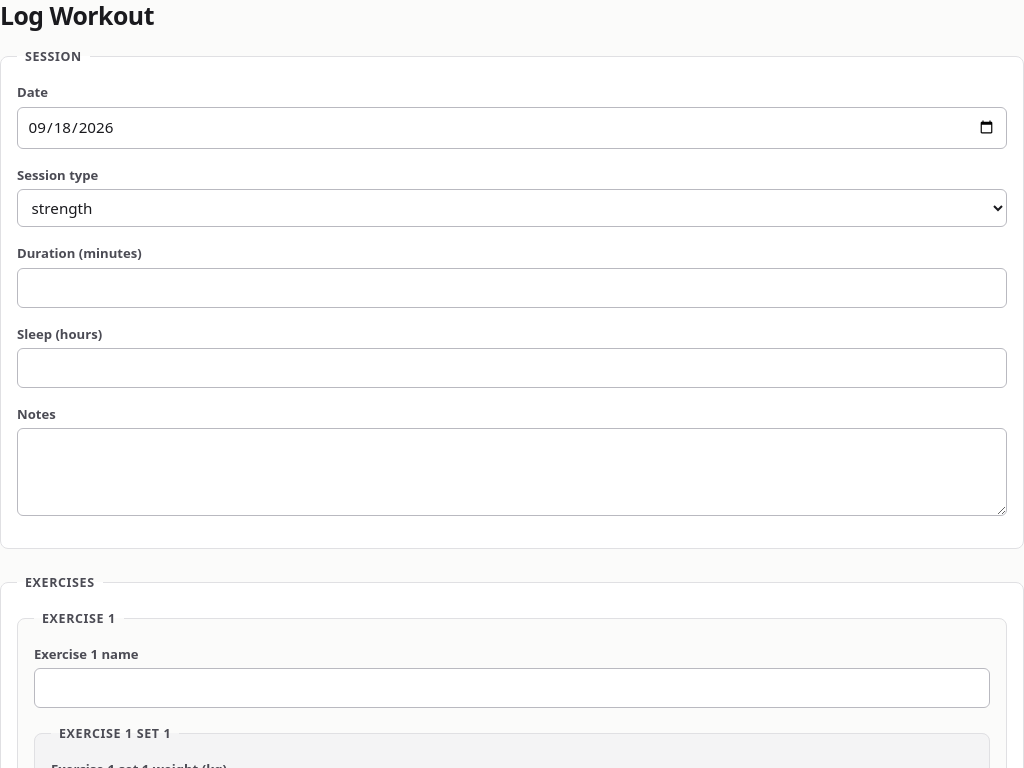
Test: WorkoutEditorScreen › rejects RPE outside 1-10
This screenshot has width=1024, height=768.
Type "Squat" into the field labelled "Exercise 1 name" at (512, 688), box [34,668,990,708]
(page scrolled)
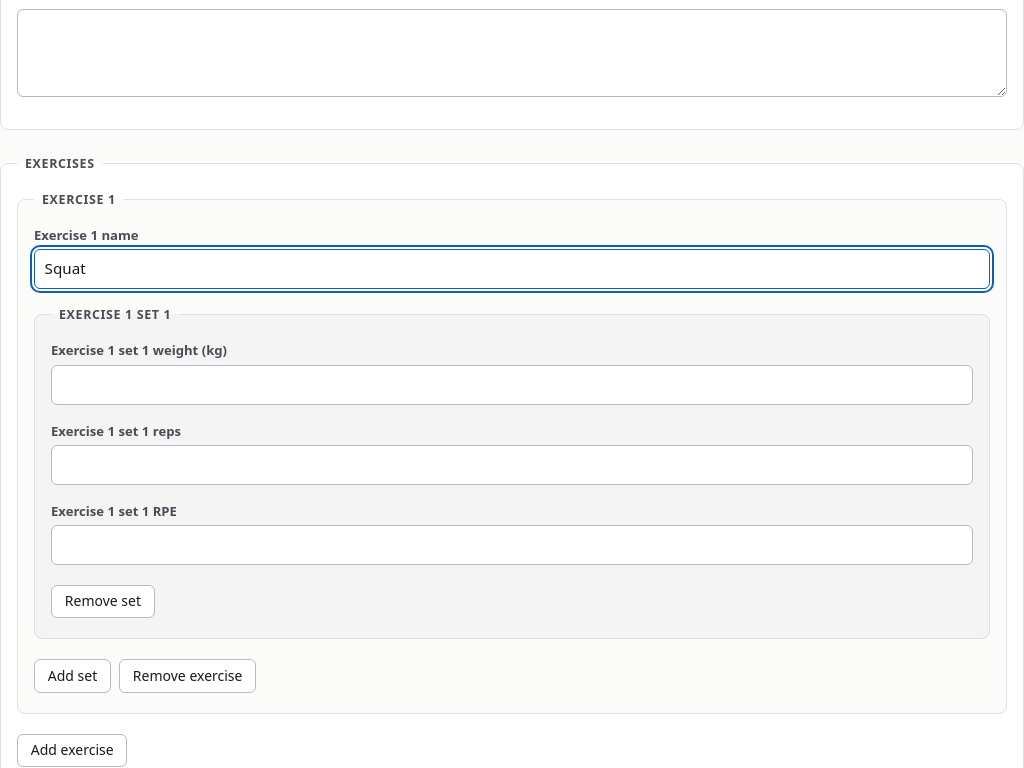
Type "100" into the number field labelled "Exercise 1 set 1 weight (kg)" at (512, 385), box [51,365,973,405]
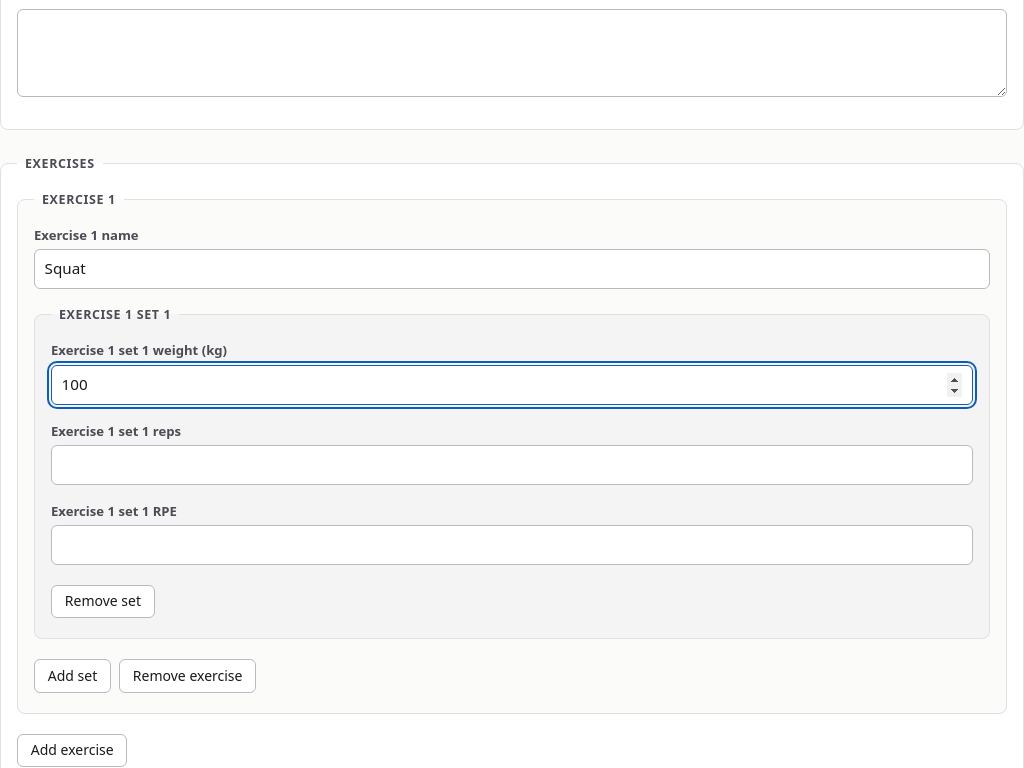
Type "5" into the number field labelled "Exercise 1 set 1 reps" at (512, 465), box [51,445,973,485]
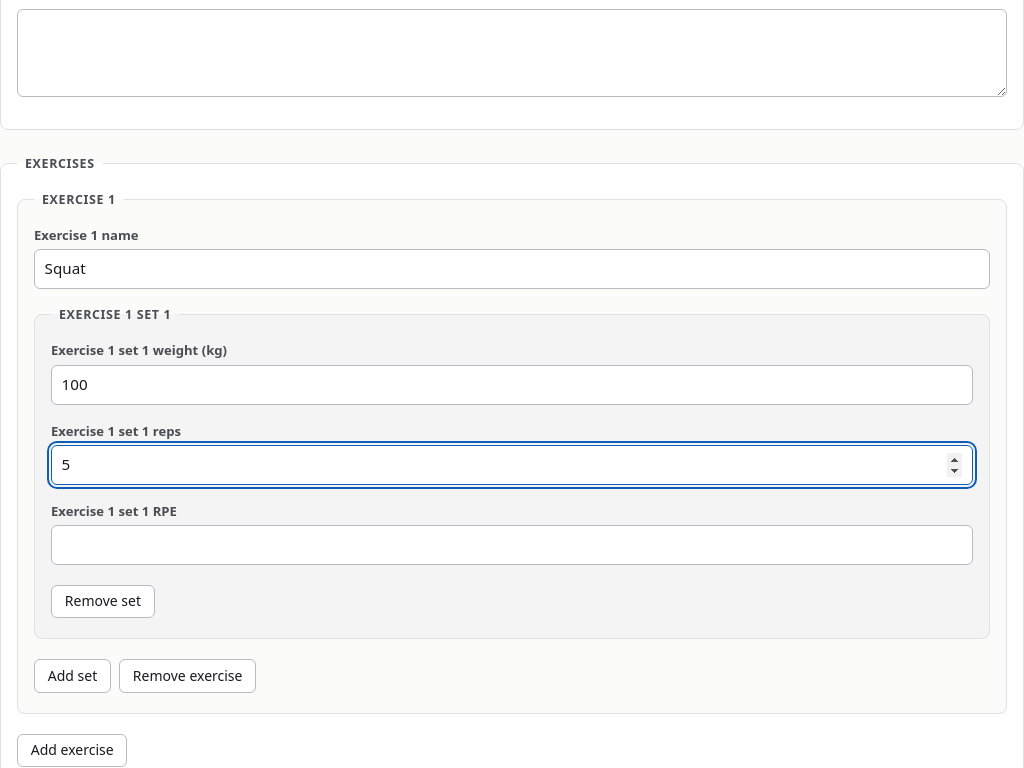
Type "8" into the number field labelled "Exercise 1 set 1 RPE" at (512, 545), box [51,525,973,565]
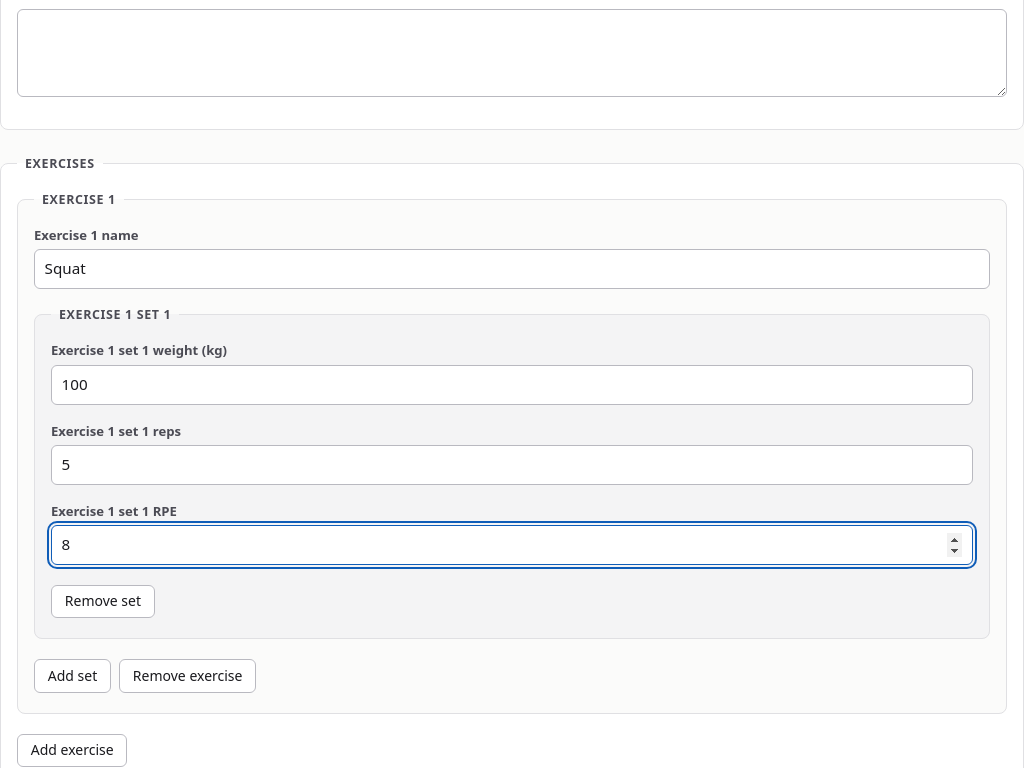
Replace the text in the number field labelled "Exercise 1 set 1 RPE" with "11" at (512, 545), box [51,525,973,565]
(page scrolled)
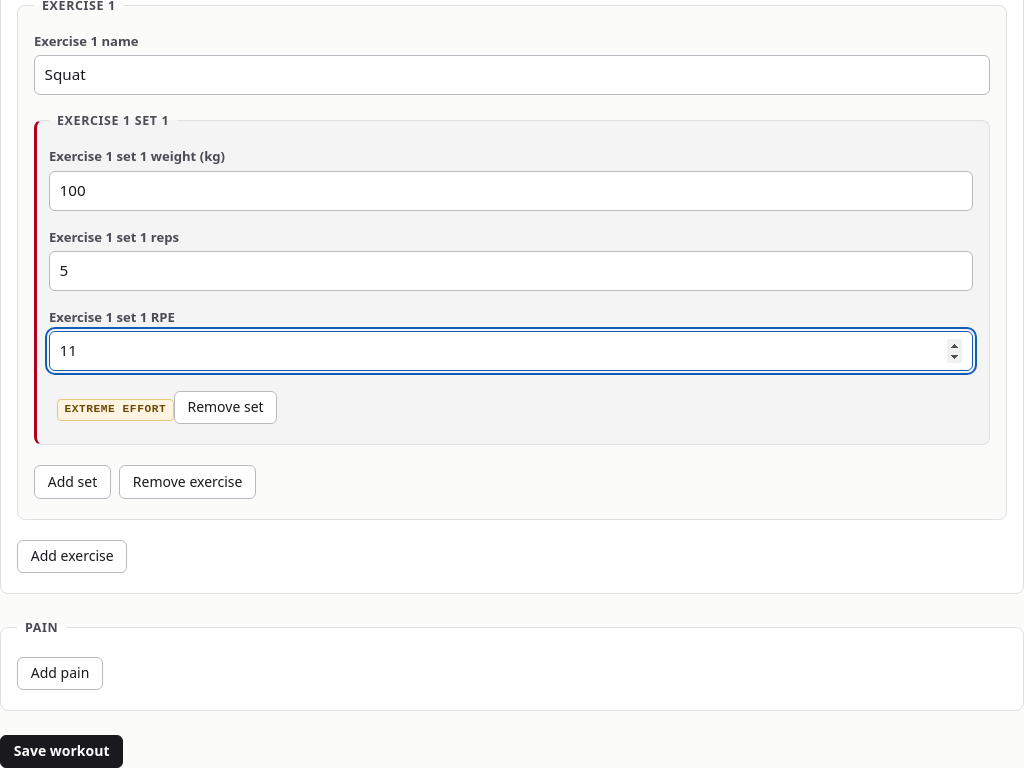
Click the button "Save workout" at (62, 752), box [0,735,123,767]
(page scrolled)
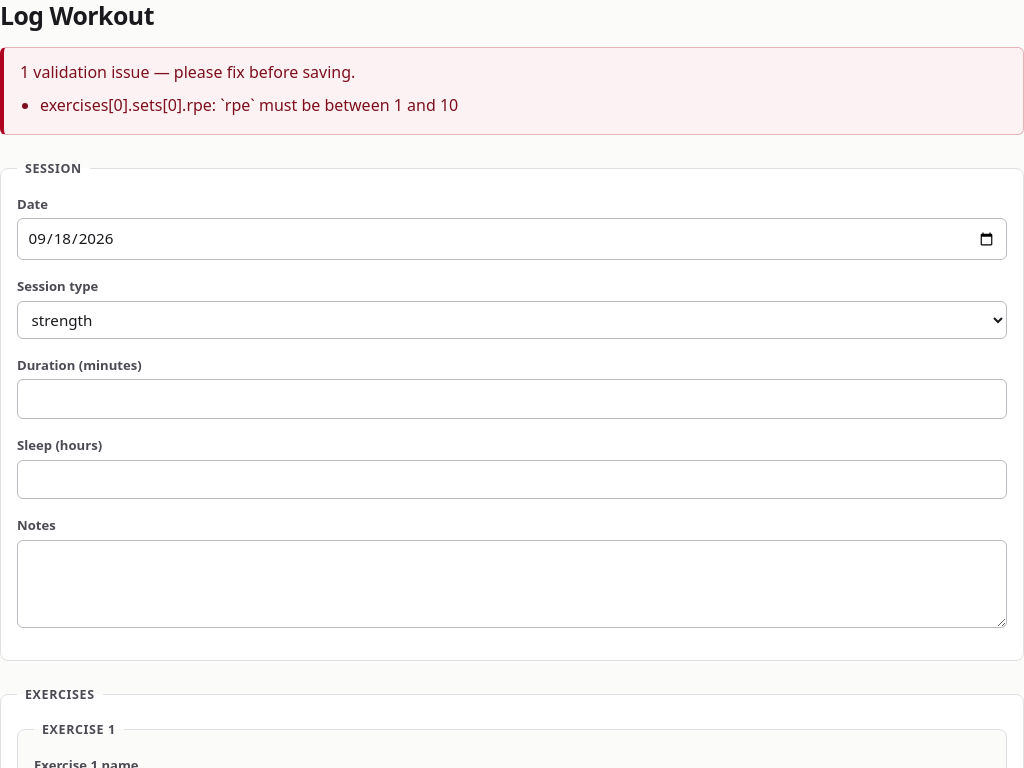
Now the message shows "rpe", box [220,94,458,116]
